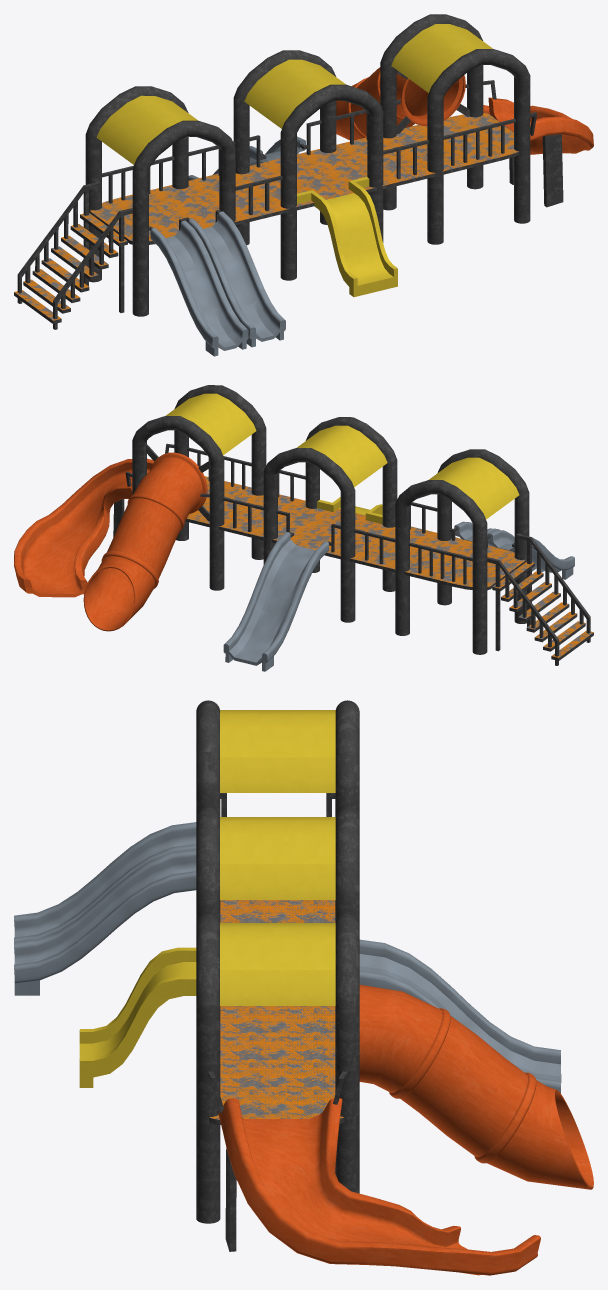
The model's file is Playground Equipment Pack  Game Ready PBR Low Poly.obj.
3 views of the same model, one above another, from view 1: azimuth 30°, elevation 25°; view 2: azimuth 150°, elevation 25°; view 3: azimuth 270°, elevation 25° (orthographic). The views are drawn at different scales.
Parts seen in each view (by area): view 1: Park; view 2: Park; view 3: Park.
Part boxes in pixels (x1=…): Park: x1=14, y1=14, x2=593, y2=356; Park: x1=14, y1=385, x2=593, y2=671; Park: x1=14, y1=700, x2=593, y2=1275.
Size of the model in its own units: 6.56 by 2.1 by 3.89.
